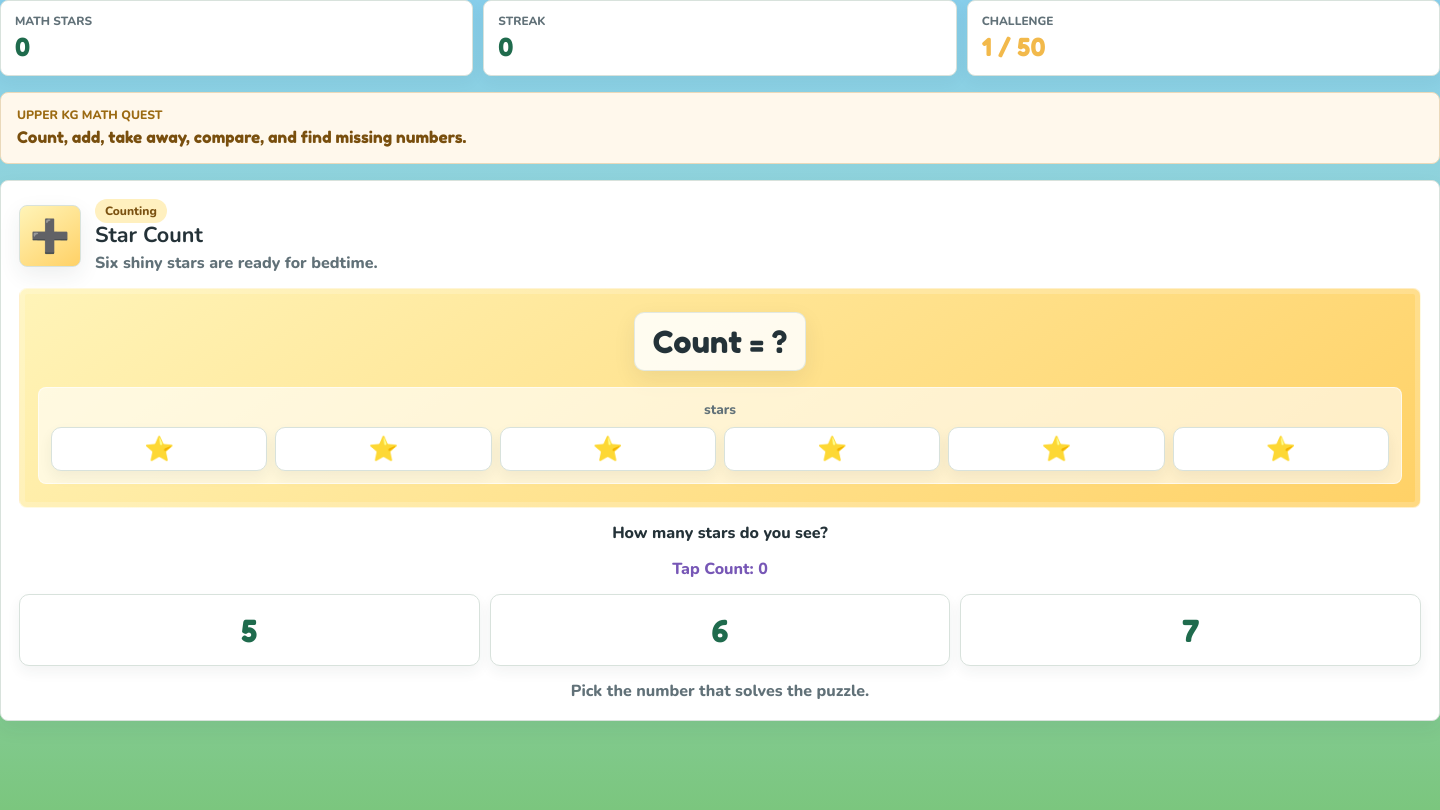
Test: MathQuest › counts tapped objects for hands-on number practice
Click the button named "stars 1" at (159, 449), box [51,427,267,471]
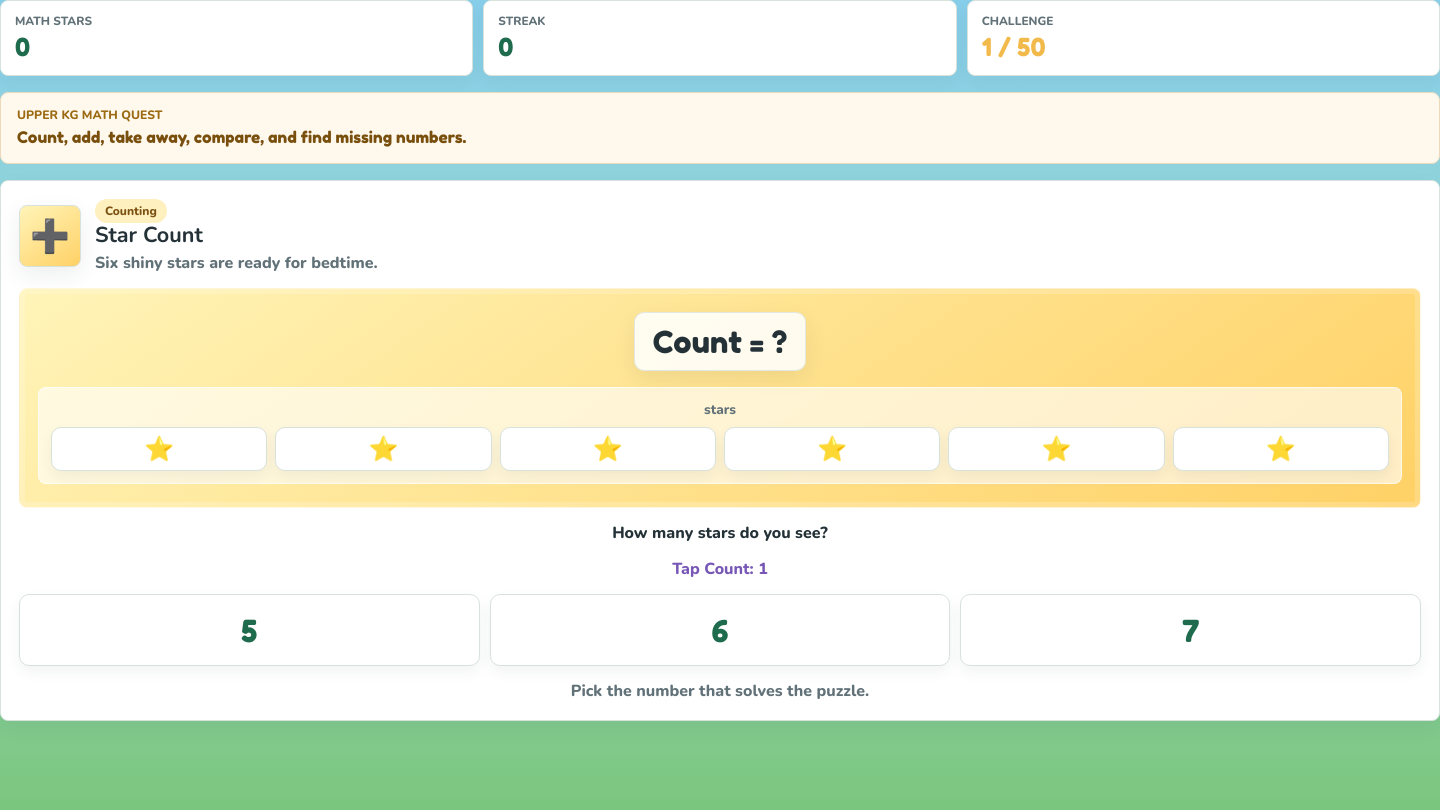
Click the button named "stars 2" at (383, 449), box [275,427,492,471]
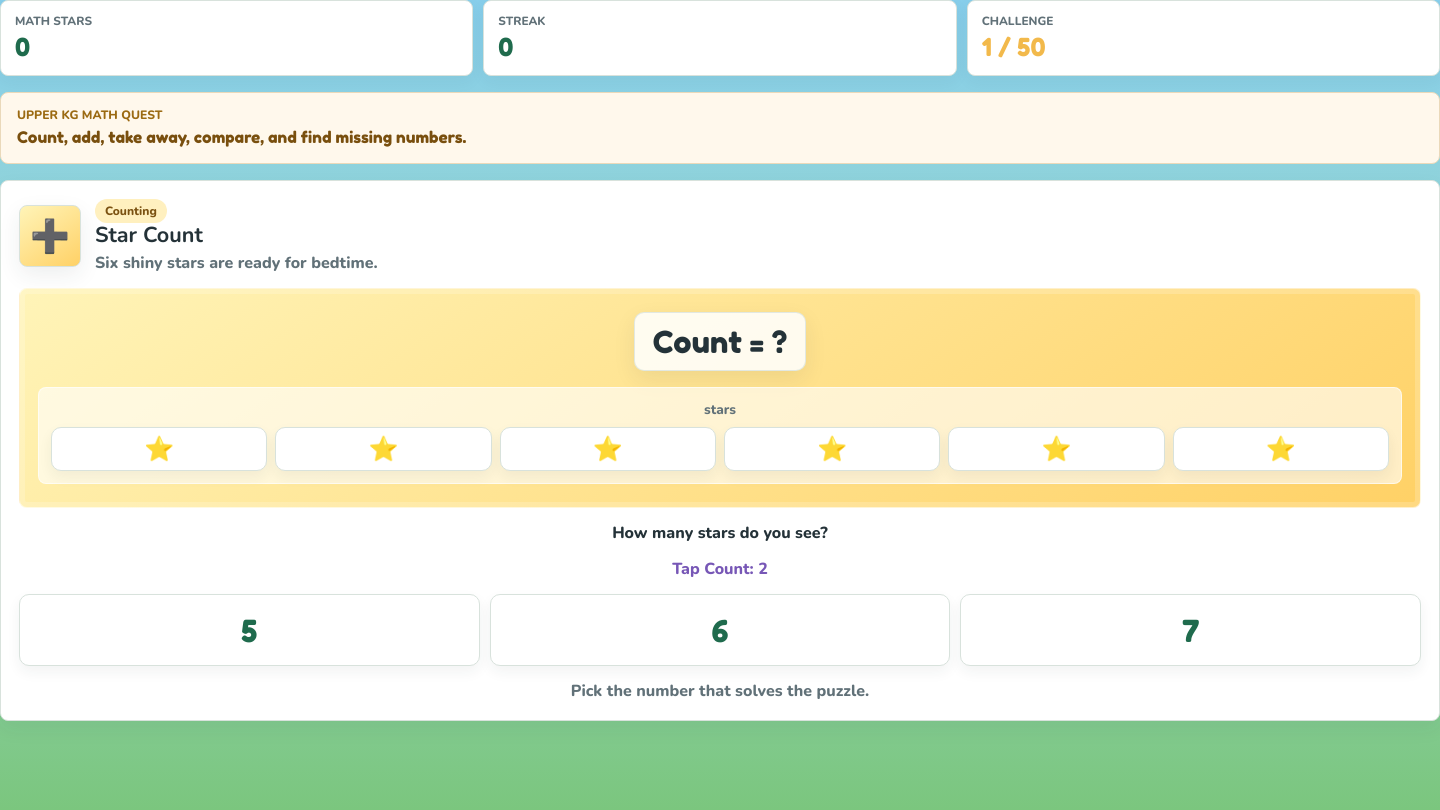
Now the text "Tap Count: 2" is shown, box [672,558,768,580]
